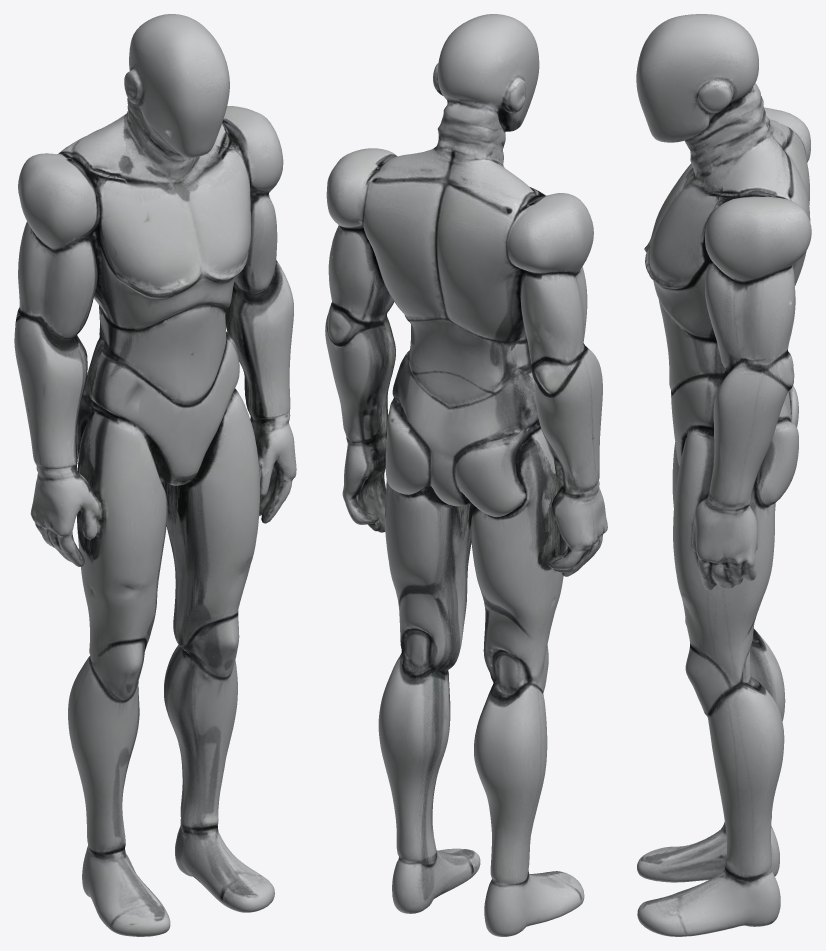
File: prometeo-entity.glb
3 renders of one model, left to right at view 1: azimuth 30°, elevation 25°; view 2: azimuth 150°, elevation 25°; view 3: azimuth 270°, elevation 25°, orthographic.
Bounding box in the file's own units: 0.6239 × 2 × 0.3604.
1 material, 1 textured.
